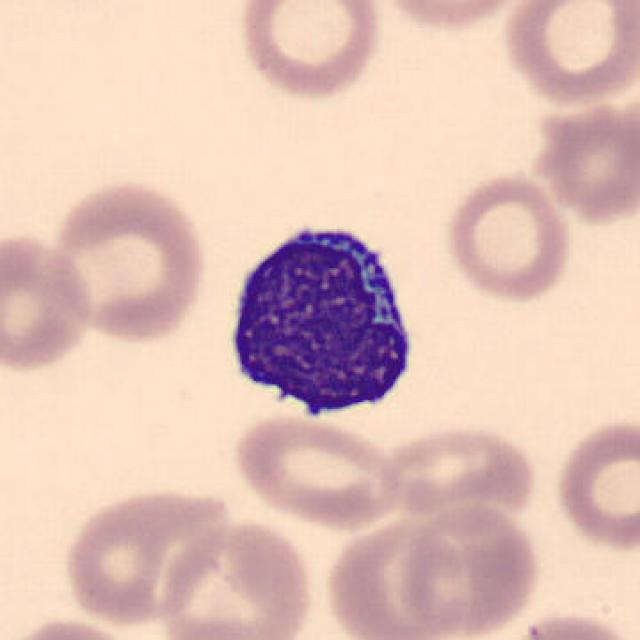Lymphocyte: (213, 210, 425, 428)
RBC: (42, 176, 212, 348), (58, 483, 235, 626), (228, 409, 406, 532), (393, 499, 544, 640), (154, 516, 318, 640), (441, 169, 576, 307), (322, 515, 471, 638), (377, 421, 540, 529), (234, 0, 386, 104), (526, 92, 638, 229), (498, 0, 638, 108), (0, 226, 96, 377), (550, 413, 638, 557), (373, 0, 535, 35), (508, 608, 636, 640), (1, 613, 149, 640)
